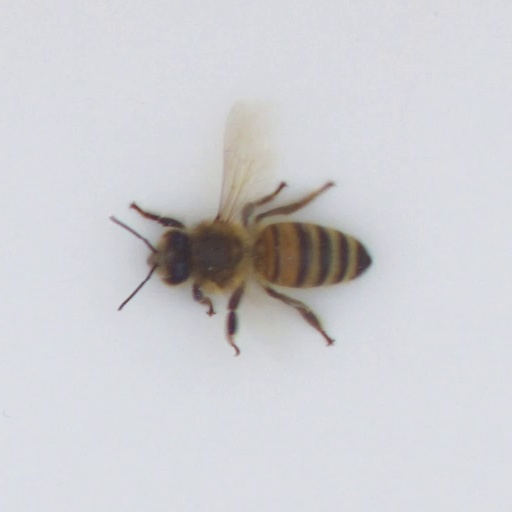Bee: (157, 233, 363, 287)
Thorax: (190, 226, 245, 297)
